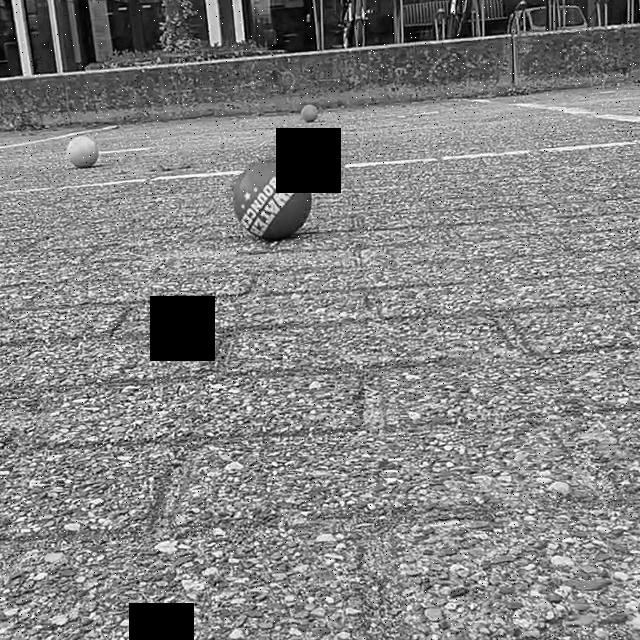ball: (62, 132, 101, 172), (296, 100, 320, 126)
